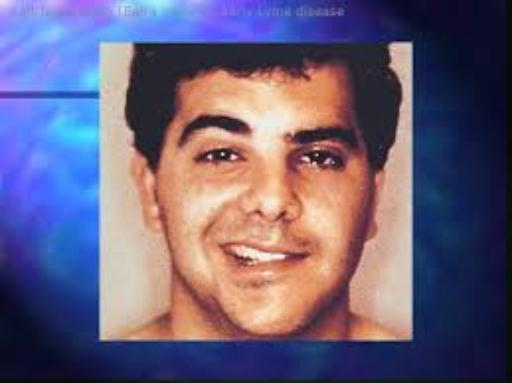left_eye: (295, 150, 348, 172)
left_lip_corner: (296, 250, 317, 264)
right_eye: (192, 148, 250, 167)
right_lip_corner: (211, 238, 239, 256)
